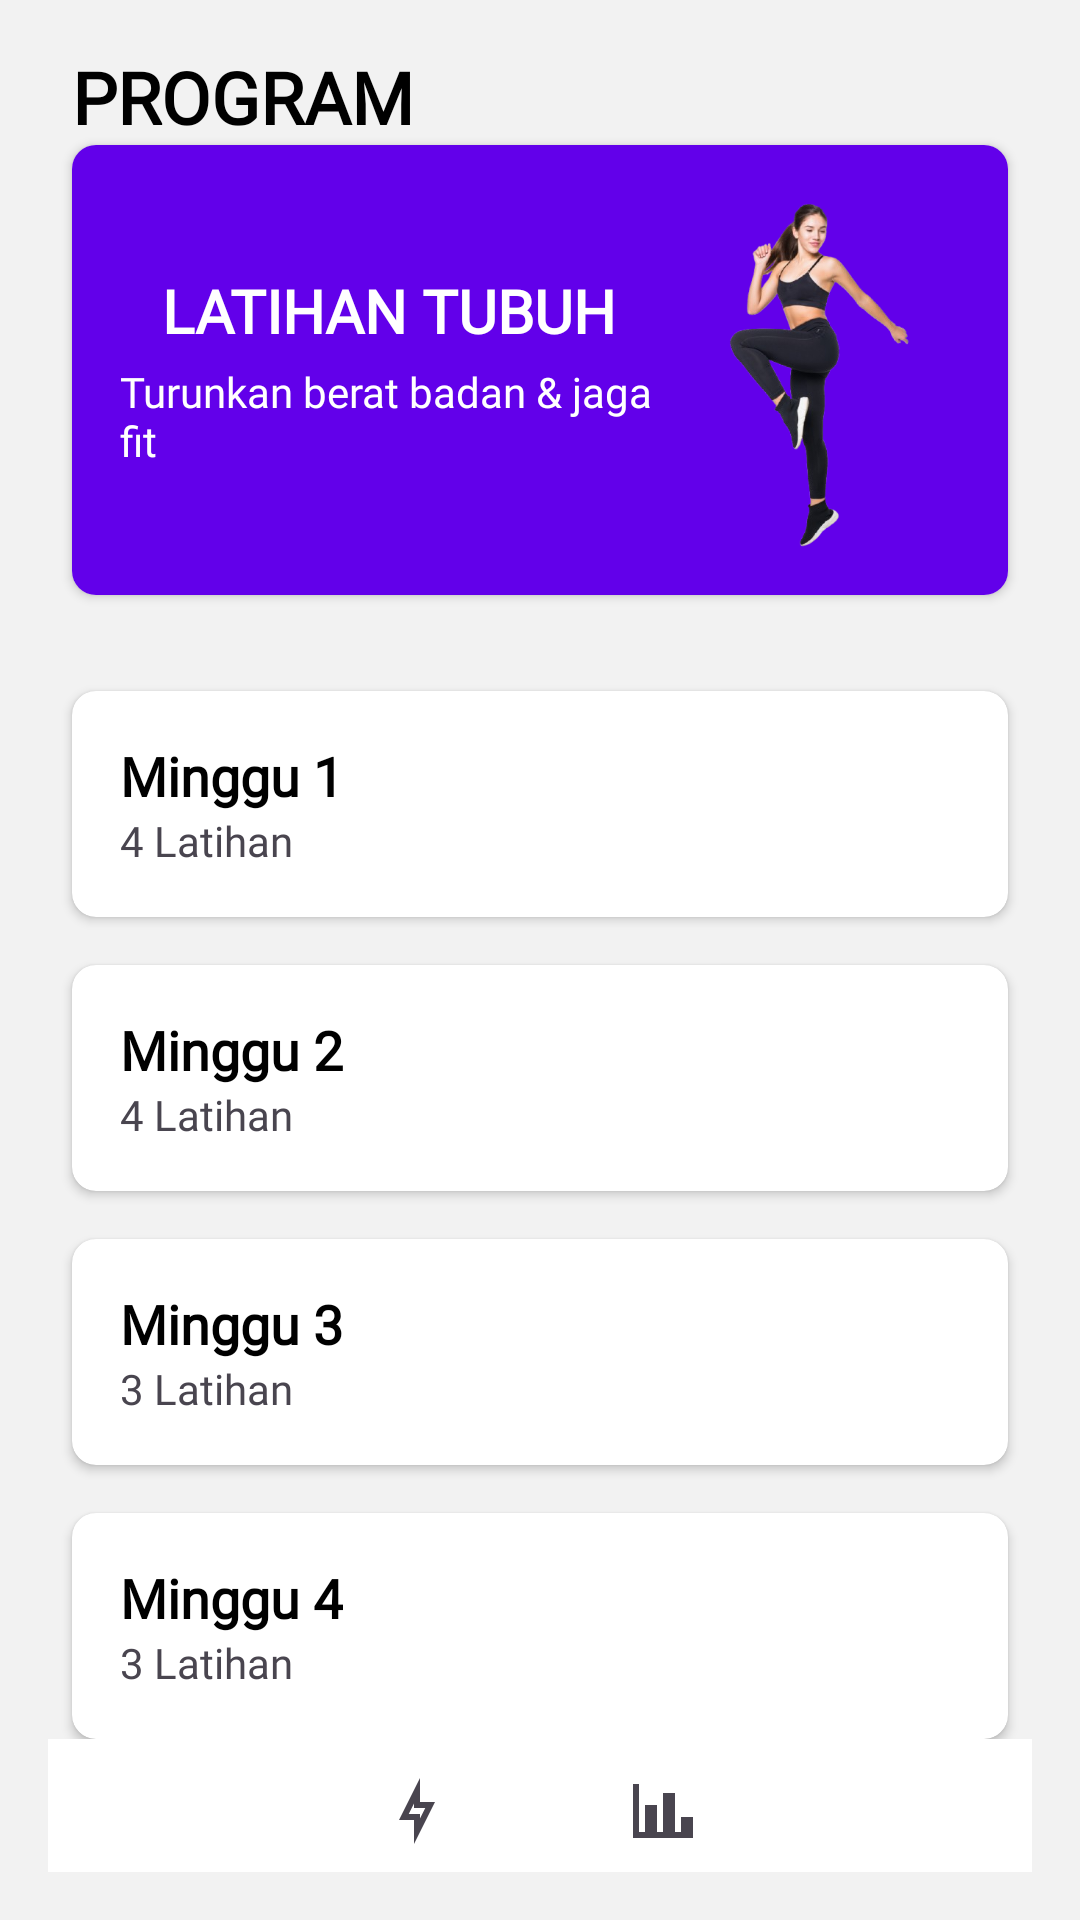

Icon bounding boxes for this 1080×1920 phone screenshot, format (x1, y1, x2, y2):
female: (730, 204, 909, 546)
